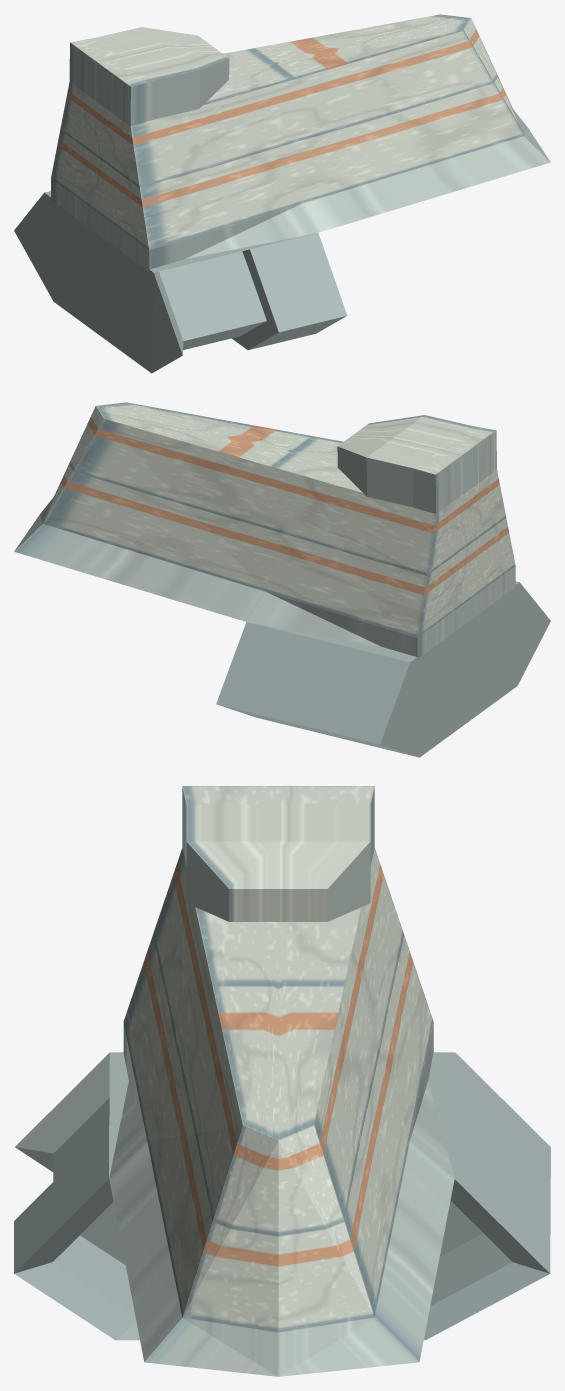
Rendered from galaxy_one.obj.
3 views of the same model, one above another, from view 1: azimuth 30°, elevation 25°; view 2: azimuth 150°, elevation 25°; view 3: azimuth 270°, elevation 25° (orthographic). The views are drawn at different scales.
Parts seen in each view (by area): view 1: Cube; view 2: Cube; view 3: Cube.
Part boxes in pixels (<box>): Cube: <box>14,14,550,373</box>; Cube: <box>14,402,550,757</box>; Cube: <box>14,786,550,1376</box>.
Size of the model in its own units: 8.11 by 4.91 by 5.58.
Materials: 1 (1 with a texture image).
